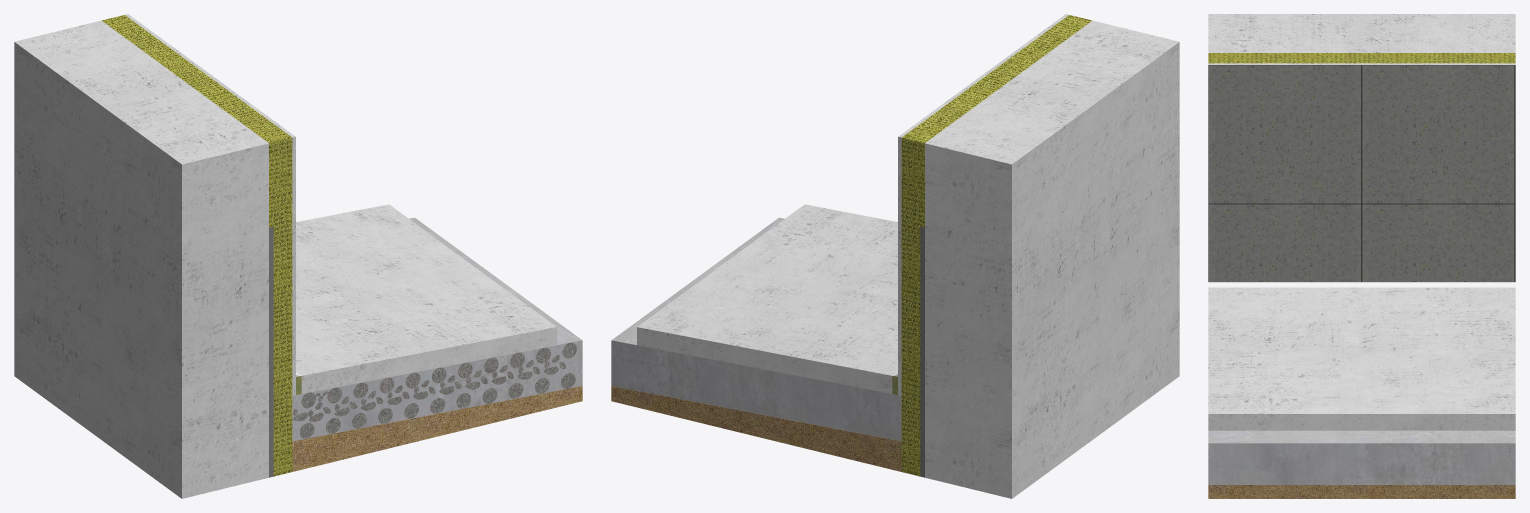
The model's file is apron-flashing.glb.
3 views of the same model, side by side, from view 1: azimuth 30°, elevation 25°; view 2: azimuth 150°, elevation 25°; view 3: azimuth 270°, elevation 25° (orthographic). The views are drawn at different scales.
Visible parts, largest first — view 1: 钢筋混凝土墙体, 60厚C20细石混凝土面层, 150厚粒径10~40卵石灌M2.5混合砂浆（或150厚3：7, 保温层, 素土夯实，向外坡3%~5%, 饰面层, 防水层; view 2: 钢筋混凝土墙体, 60厚C20细石混凝土面层, 150厚粒径10~40卵石灌M2.5混合砂浆（或150厚3：7, 保温层, 素土夯实，向外坡3%~5%, 饰面层, 防水层; view 3: 饰面层, 60厚C20细石混凝土面层, 150厚粒径10~40卵石灌M2.5混合砂浆（或150厚3：7, 钢筋混凝土墙体, 素土夯实，向外坡3%~5%, 保温层, 密封膏嵌缝.
Boxes of the visible parts, x1,y1,x2,y2 form: 钢筋混凝土墙体: (14,20,268,498); 60厚C20细石混凝土面层: (296,204,556,393); 150厚粒径10~40卵石灌M2.5混合砂浆（或150厚3：7: (292,217,582,441); 保温层: (102,15,292,476); 素土夯实，向外坡3%~5%: (292,386,582,471); 饰面层: (125,14,295,395); 防水层: (269,227,273,477); 钢筋混凝土墙体: (925,20,1179,498); 60厚C20细石混凝土面层: (637,204,897,393); 150厚粒径10~40卵石灌M2.5混合砂浆（或150厚3：7: (611,217,901,441); 保温层: (901,15,1091,476); 素土夯实，向外坡3%~5%: (611,386,901,471); 饰面层: (898,14,1068,395); 防水层: (920,227,924,477); 饰面层: (1208,63,1515,281); 60厚C20细石混凝土面层: (1208,287,1515,430); 150厚粒径10~40卵石灌M2.5混合砂浆（或150厚3：7: (1208,430,1515,484); 钢筋混凝土墙体: (1208,14,1515,52); 素土夯实，向外坡3%~5%: (1208,485,1515,498); 保温层: (1208,53,1515,63); 密封膏嵌缝: (1208,282,1515,287).
Size of the model in its own units: 1.38 by 1.1 by 1.
11 materials, 9 textured.
